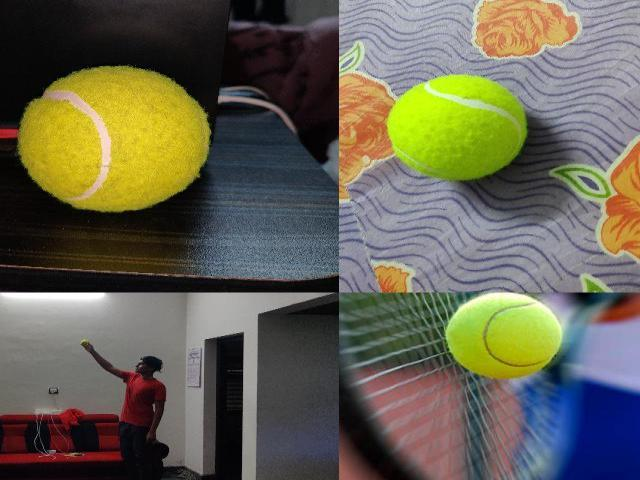tennis-ball: (17, 64, 209, 212), (386, 74, 528, 180), (445, 292, 563, 379), (80, 339, 88, 345)
